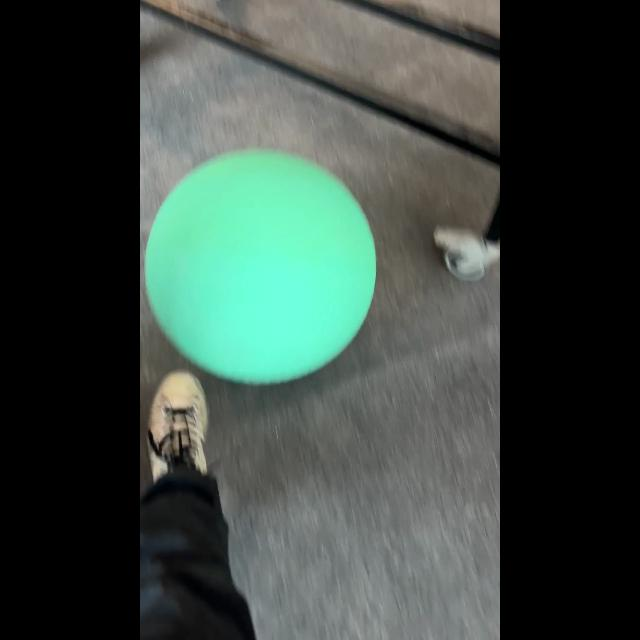ALGAE: (144, 147, 378, 386)
